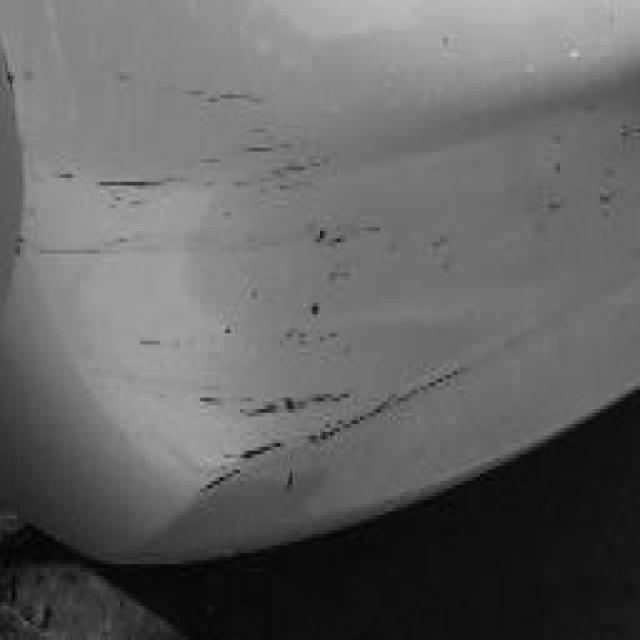Bumper: (0, 0, 625, 500)
